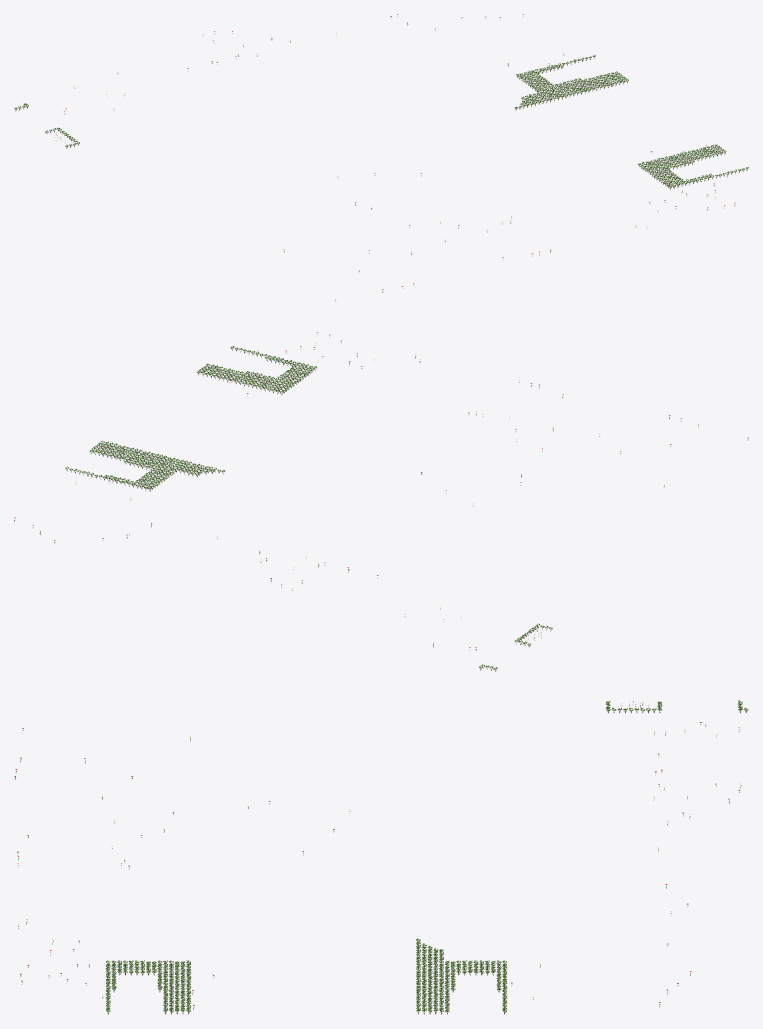
The picture shows the model from 3 angles, top to bottom: view 1: azimuth 30°, elevation 25°; view 2: azimuth 150°, elevation 25°; view 3: azimuth 270°, elevation 25°; orthographic projection. The views are drawn at different scales.
Parts seen in each view (by area): view 1: GROUND_FLORA_s_-5_-2; view 2: GROUND_FLORA_s_-5_-2; view 3: GROUND_FLORA_s_-5_-2.
Boxes of the visible parts, x1,y1,x2,y2 form: GROUND_FLORA_s_-5_-2: (14, 14, 748, 300); GROUND_FLORA_s_-5_-2: (14, 332, 748, 671); GROUND_FLORA_s_-5_-2: (14, 700, 748, 1014).
Bounding box in the file's own units: 128 × 7.91 × 128.
